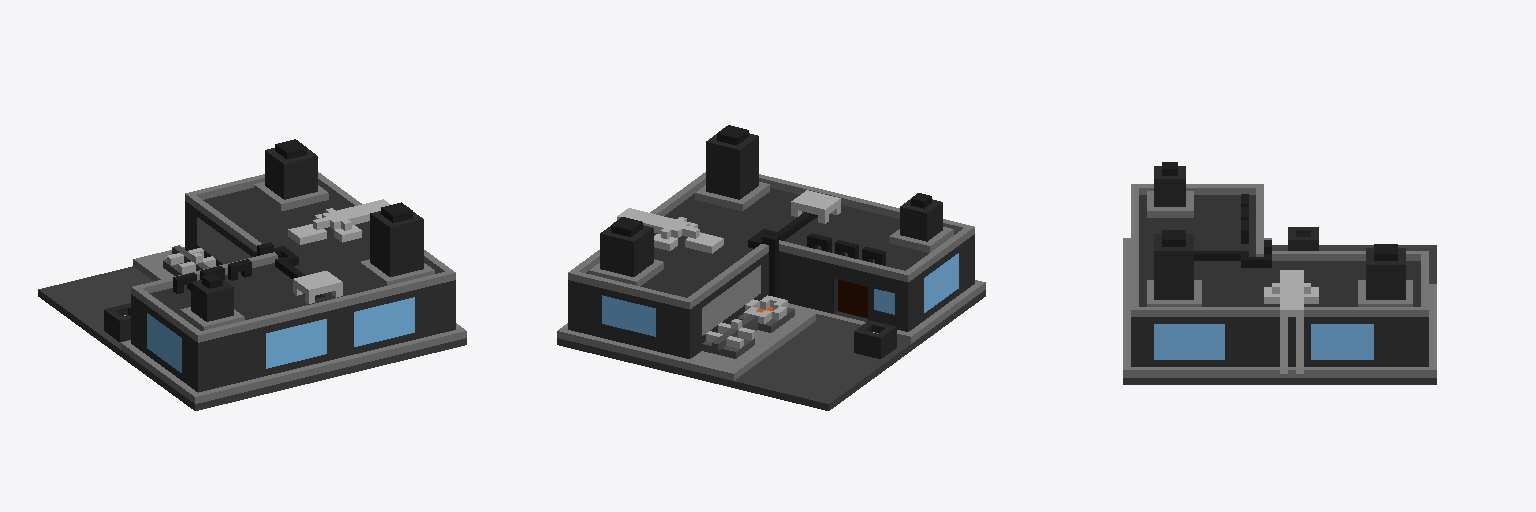
3 renders of one model, left to right at view 1: azimuth 30°, elevation 25°; view 2: azimuth 150°, elevation 25°; view 3: azimuth 270°, elevation 25°, orthographic.
Parts seen in each view (by area): view 1: object 1; view 2: object 1; view 3: object 1.
Part boxes in pixels (x1,y1,x2,y2): object 1: (38,139,466,410); object 1: (557,125,985,410); object 1: (1123,162,1436,384).
Size of the model in its own units: 4.1 by 1.8 by 4.
1 materials, 1 textured.